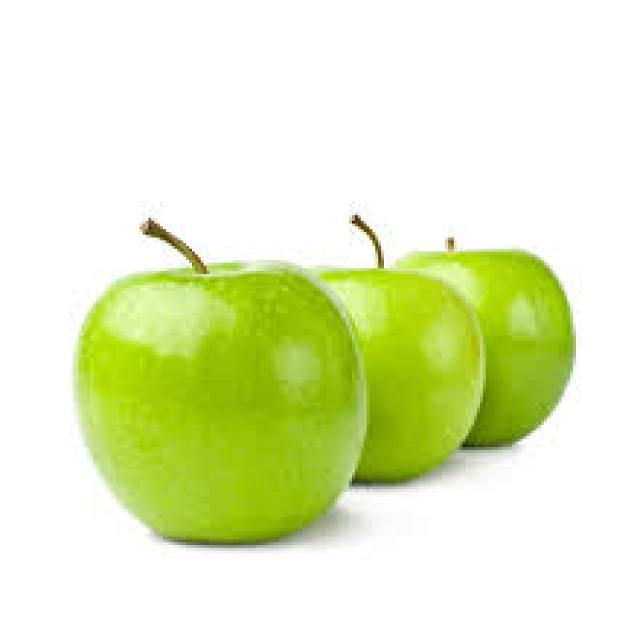non_orange: (58, 209, 395, 587), (243, 198, 514, 505), (388, 196, 593, 482)
